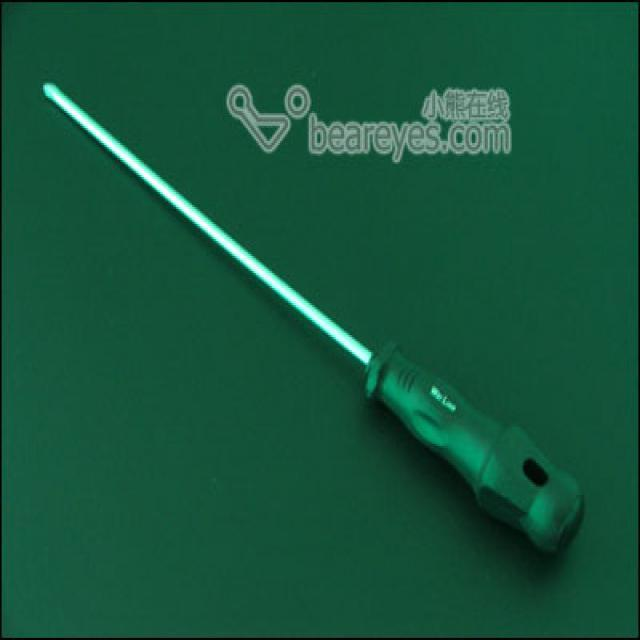screwdriver: (32, 66, 594, 566)
